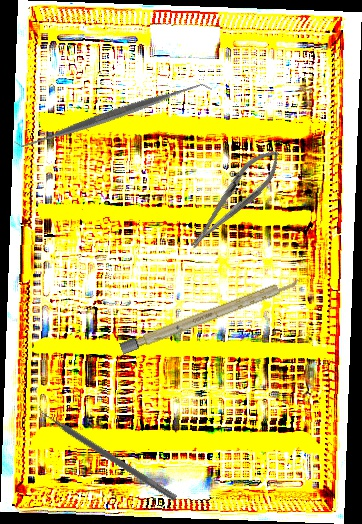Needle Holder: (180, 141, 289, 257)
Scalpel Handle: (119, 275, 301, 355)
Spatula Surgical: (13, 15, 213, 216), (33, 402, 182, 502)
